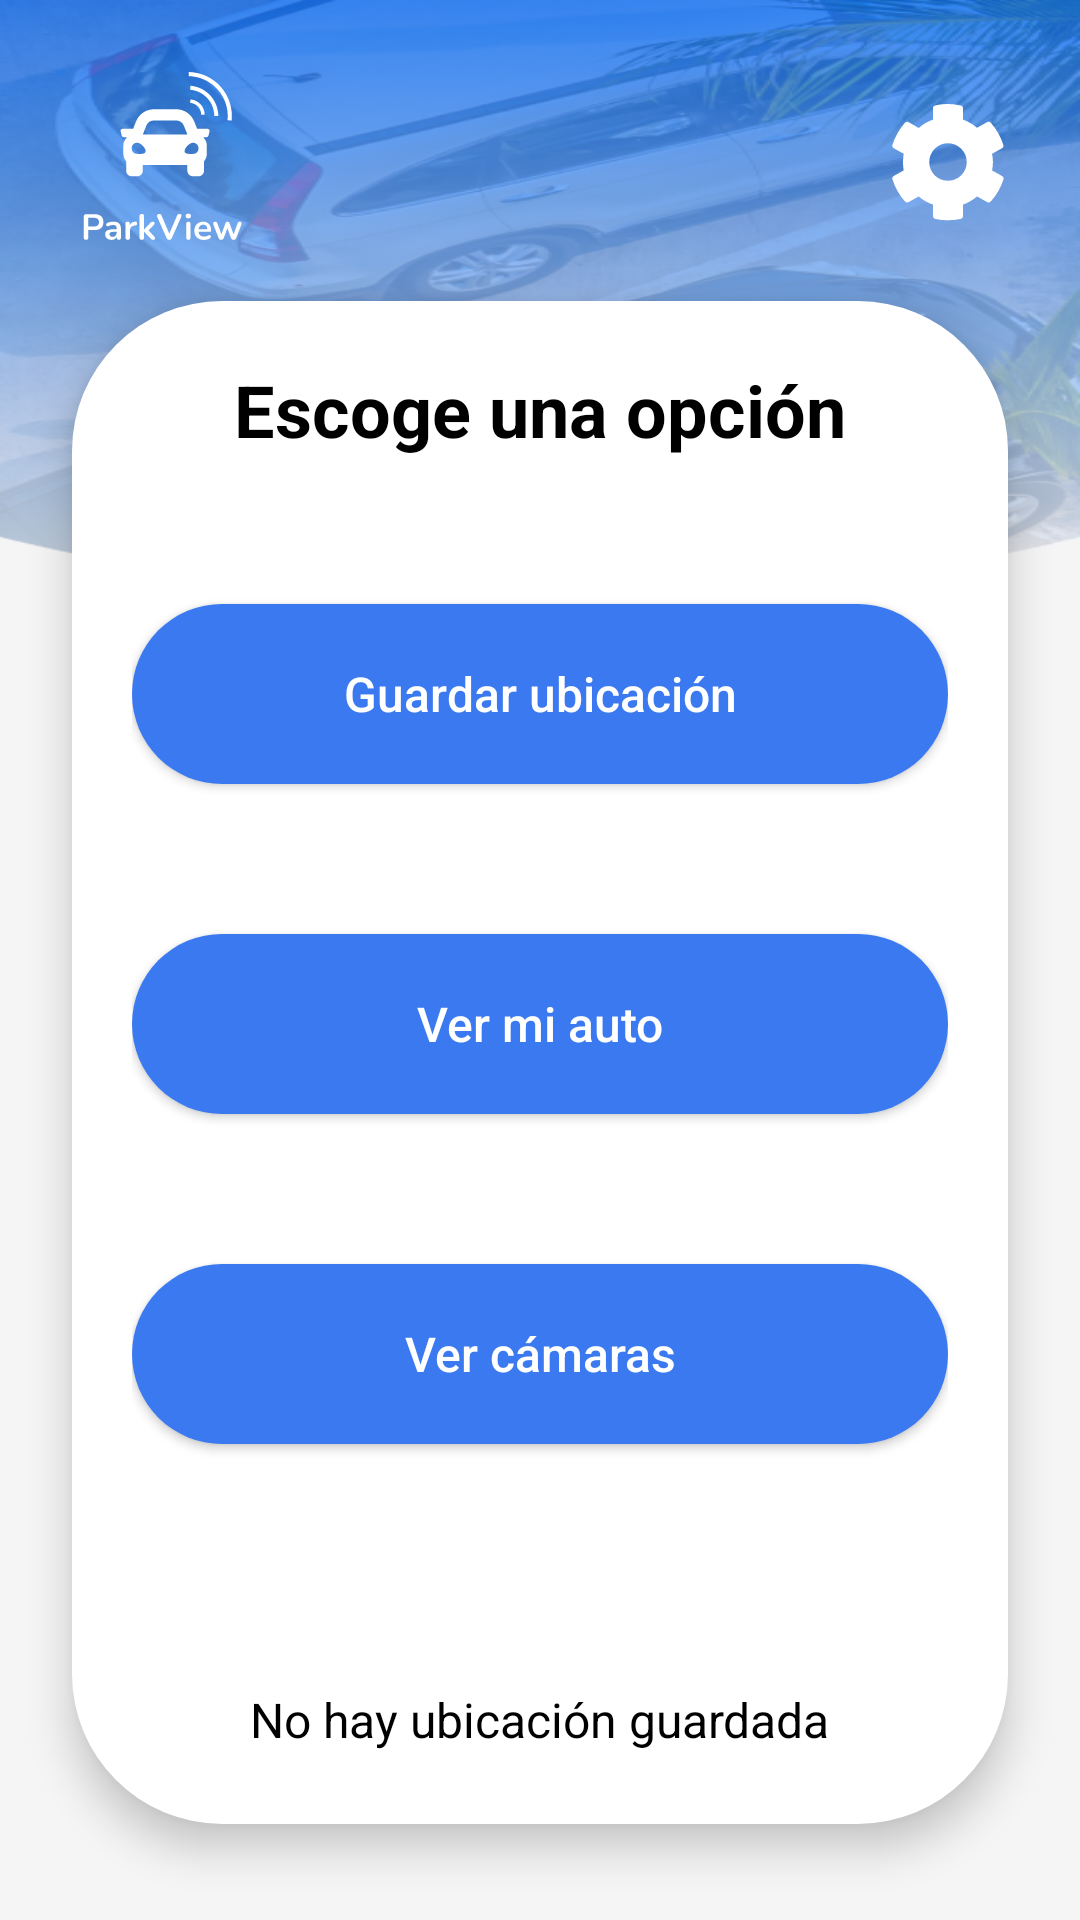

Icon click points for this 1080px x 1920px phone screenshot, format (x,y):
settings: (948,162)
